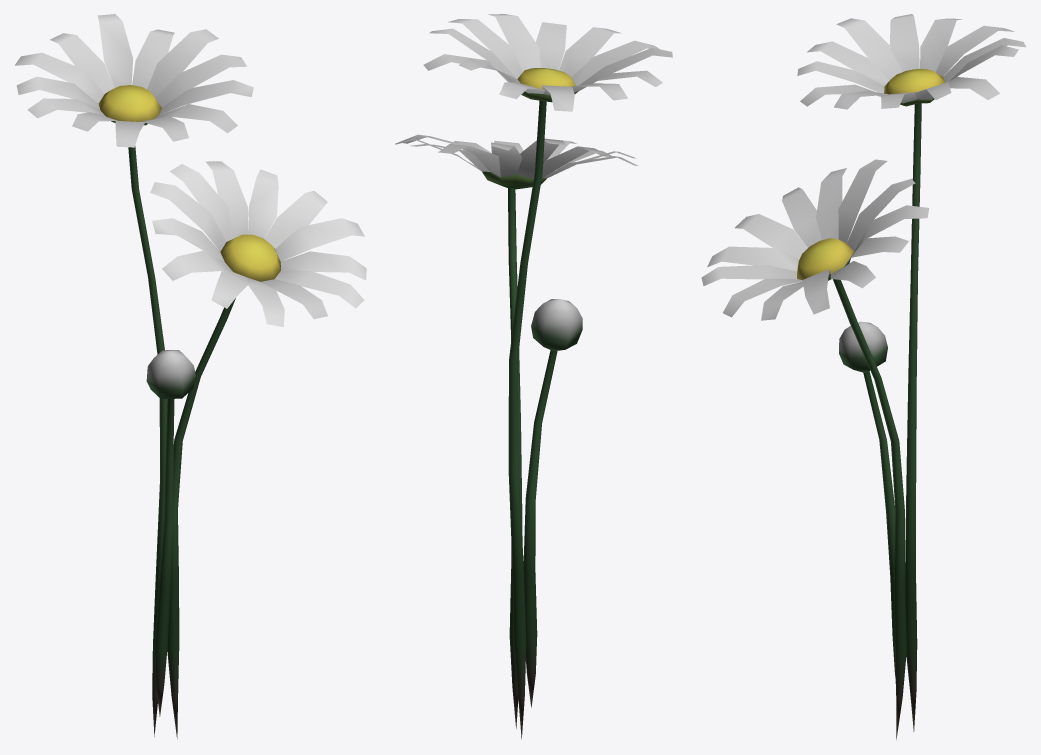
Rendered from plants-flowers-daisy_v5.fbx.
The picture shows the model from 3 angles, left to right: view 1: azimuth 30°, elevation 25°; view 2: azimuth 150°, elevation 25°; view 3: azimuth 270°, elevation 25°; orthographic projection. The views are drawn at different scales.
Visible parts, largest first — view 1: Daisy_v5; view 2: Daisy_v5; view 3: Daisy_v5.
Boxes of the visible parts, box(x1,y1,x2,y2) form: Daisy_v5: box(14, 14, 366, 738); Daisy_v5: box(395, 14, 672, 739); Daisy_v5: box(701, 14, 1025, 739).
Bounding box in the file's own units: 0.2207 × 0.5 × 0.2156.
